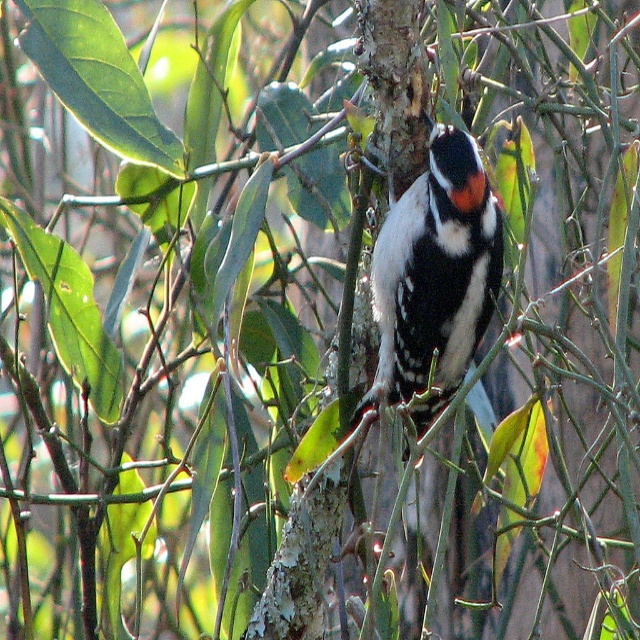Woodpecker: (349, 107, 504, 462)
